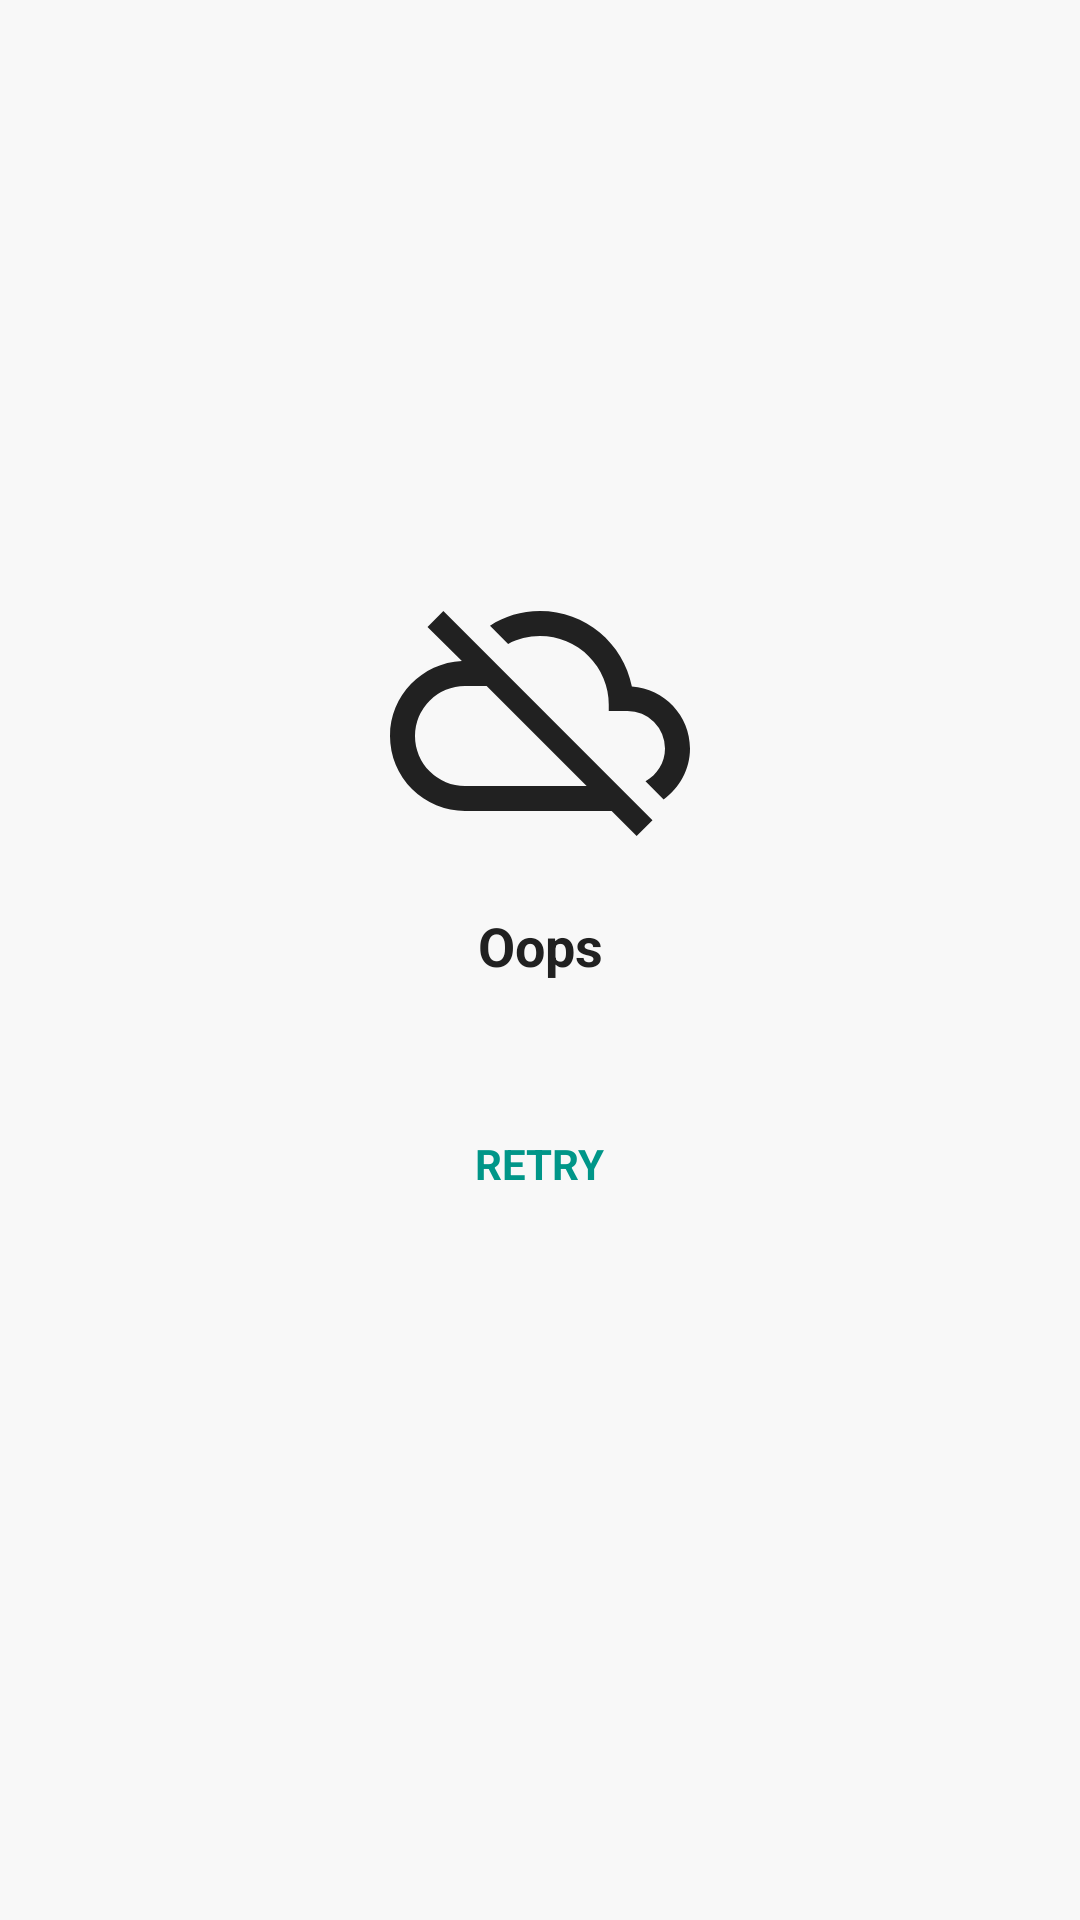

Locate icon controls on the screen. Image size 1080px×1920px, boxes as (x1, y1, x2, y2).
cloud off: (390, 611, 690, 836)
